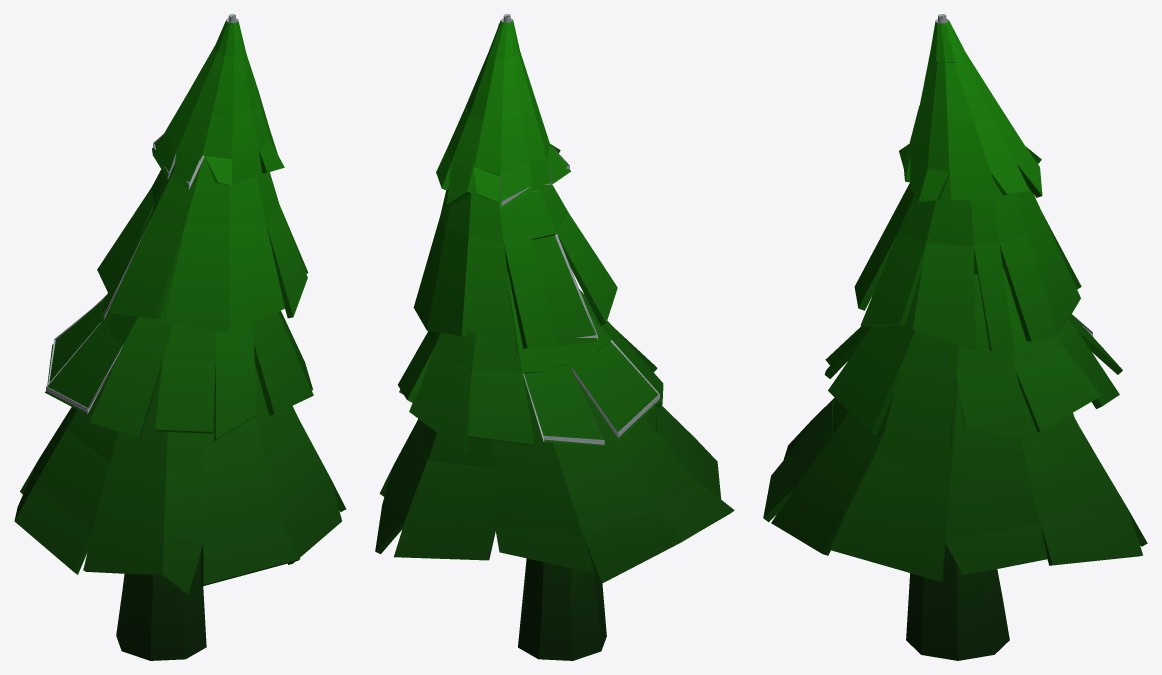
File: tree - Copy.fbx
The picture shows the model from 3 angles, left to right: view 1: azimuth 30°, elevation 25°; view 2: azimuth 150°, elevation 25°; view 3: azimuth 270°, elevation 25°; orthographic projection. The views are drawn at different scales.
Parts seen in each view (by area): view 1: Cylinder; view 2: Cylinder; view 3: Cylinder.
Boxes of the visible parts, x1,y1,x2,y2 form: Cylinder: (14, 14, 346, 660); Cylinder: (375, 14, 734, 660); Cylinder: (763, 14, 1147, 660).
Bounding box in the file's own units: 255 × 511 × 271.
Materials: 1 (1 with a texture image).
